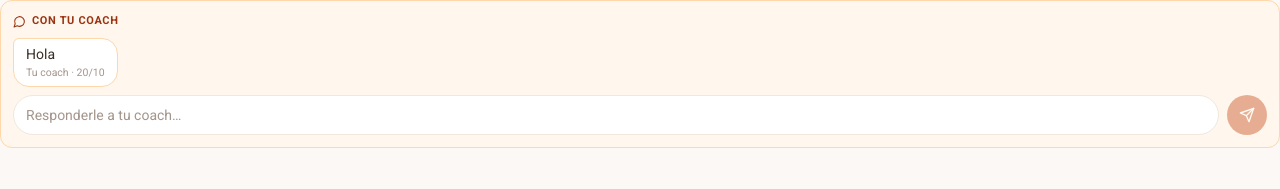
Scenario: Con tu coach (recuadro del ejercicio) › si falla el envío, avisa y deja el texto
Type "dale" into the field with placeholder "Responderle a tu coach…". click: [616, 115]
box: [13, 95, 1219, 135]
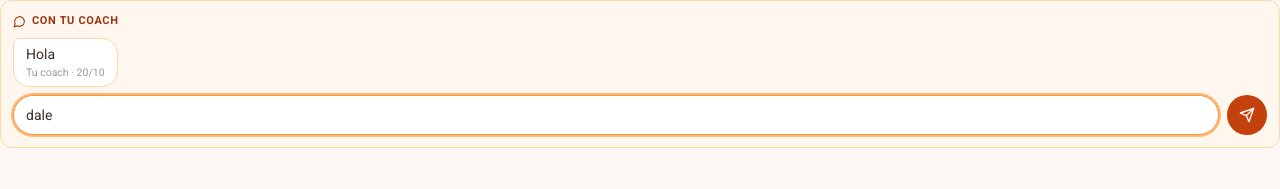
Click the button named "enviar". click: [1247, 115]
box: [1227, 95, 1267, 135]
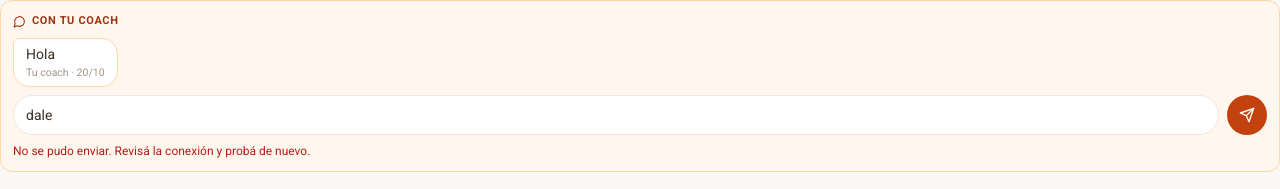
Now the text "No se pudo enviar. Revisá la conexión y probá de nuevo." is shown, box [13, 144, 310, 158]
